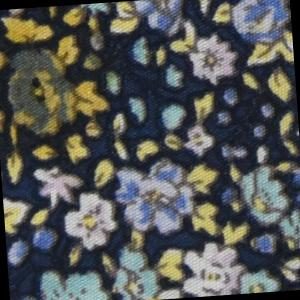Oil Stain: (1, 4, 113, 163)
